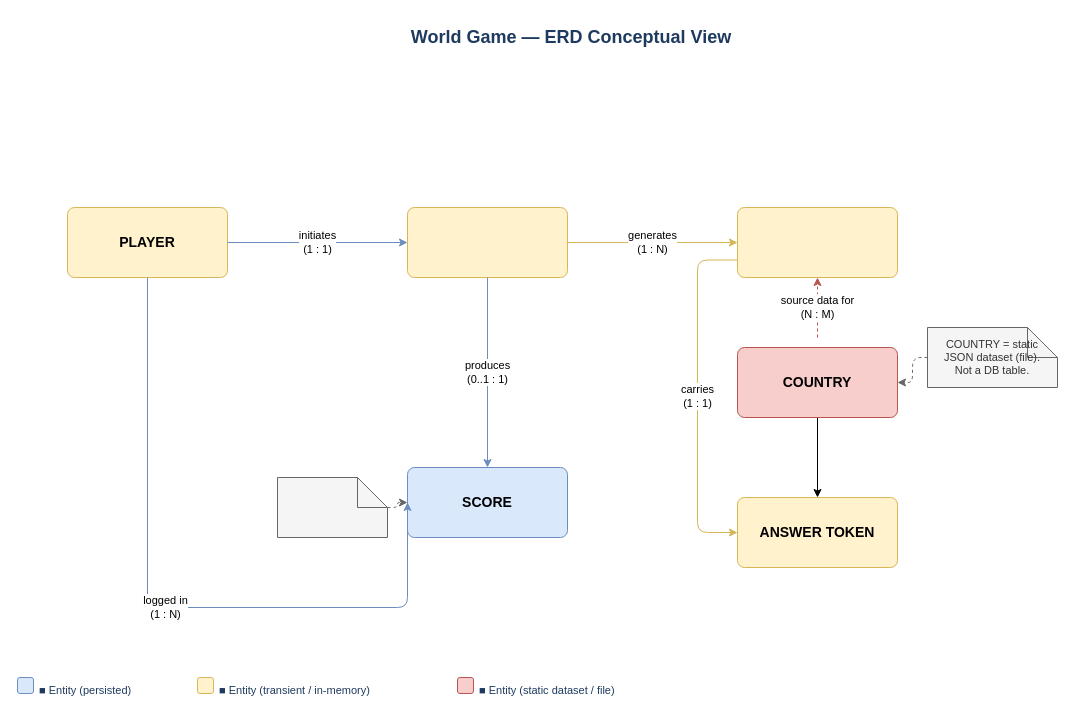
Some shapes in this 1075 by 714 pixel diagram are drawn without their labels. The box of each missing label's shape, as (x1, y1, x2, y2) in pixels:
GAME SESSION: (406, 206, 568, 278)
Only SCORE is persisted to the database.: (276, 476, 388, 538)
QUESTION: (736, 206, 898, 278)
